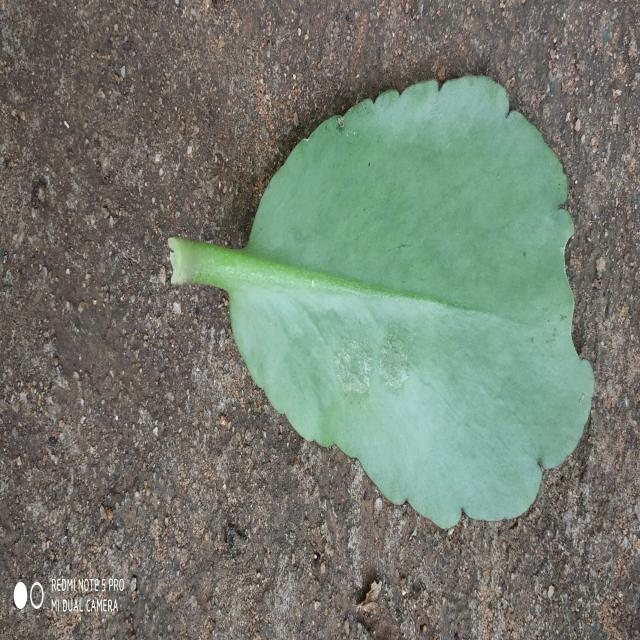spinach: (170, 78, 594, 528)
